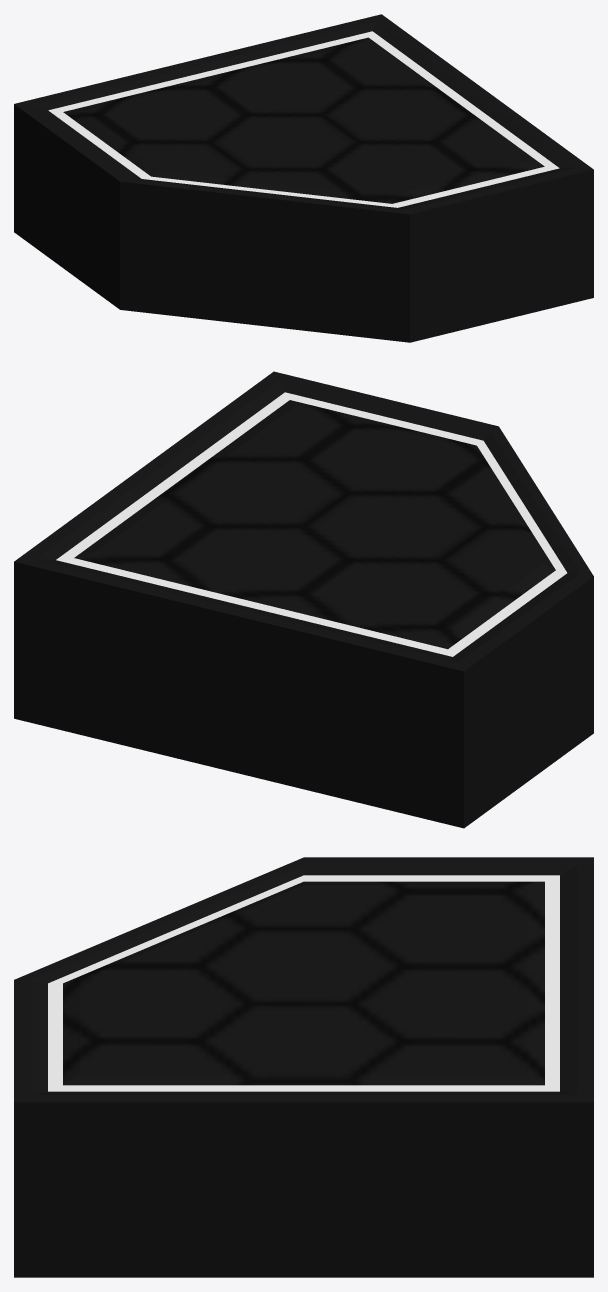
The model's file is Tile 3E3.fbx.
3 renders of one model, top to bottom at view 1: azimuth 30°, elevation 25°; view 2: azimuth 150°, elevation 25°; view 3: azimuth 270°, elevation 25°, orthographic. The views are drawn at different scales.
Visible parts, largest first — view 1: pCube174; view 2: pCube174; view 3: pCube174.
Part boxes in pixels (bbox=[...]): pCube174: bbox=[14, 14, 593, 342]; pCube174: bbox=[14, 371, 593, 828]; pCube174: bbox=[14, 857, 593, 1277].
Size of the model in its own units: 3 by 1 by 3.
